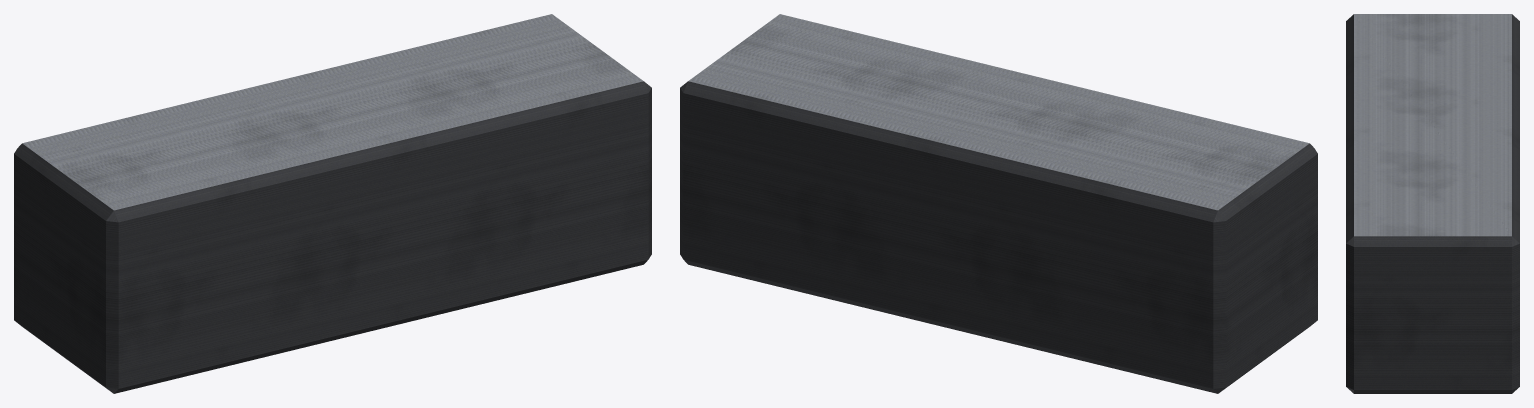
Rendered from R4B_Beam3_LOD1.glb.
The picture shows the model from 3 angles, left to right: view 1: azimuth 30°, elevation 25°; view 2: azimuth 150°, elevation 25°; view 3: azimuth 270°, elevation 25°; orthographic projection. The views are drawn at different scales.
Visible parts, largest first — view 1: R4B_Beam3_LOD1; view 2: R4B_Beam3_LOD1; view 3: R4B_Beam3_LOD1.
Boxes of the visible parts, x1,y1,x2,y2 form: R4B_Beam3_LOD1: (14, 14, 651, 393); R4B_Beam3_LOD1: (680, 14, 1317, 393); R4B_Beam3_LOD1: (1346, 14, 1519, 393).
Bounding box in the file's own units: 1.62 × 0.52 × 0.52.
2 materials, 2 textured.
